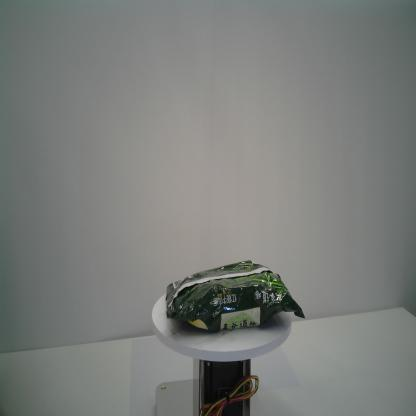Instant Noodles: (163, 260, 307, 336)
